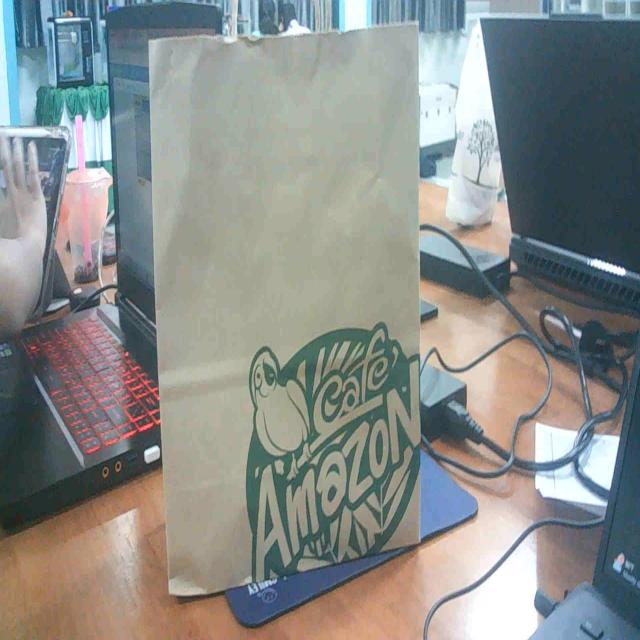bag: (142, 11, 452, 611)
